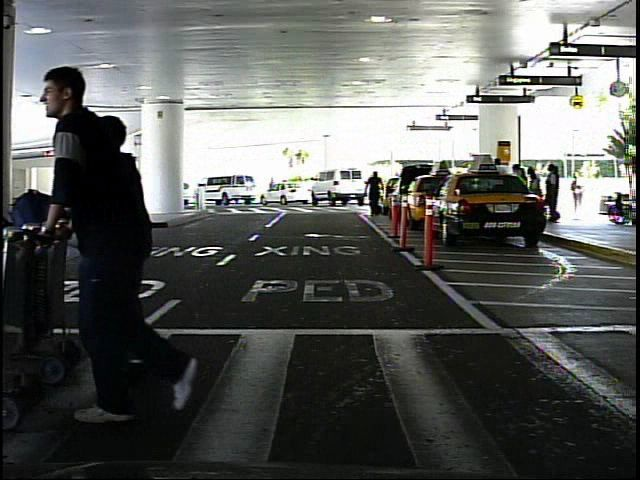person: (49, 50, 213, 429), (362, 167, 387, 223), (571, 172, 590, 218), (110, 173, 127, 211)
